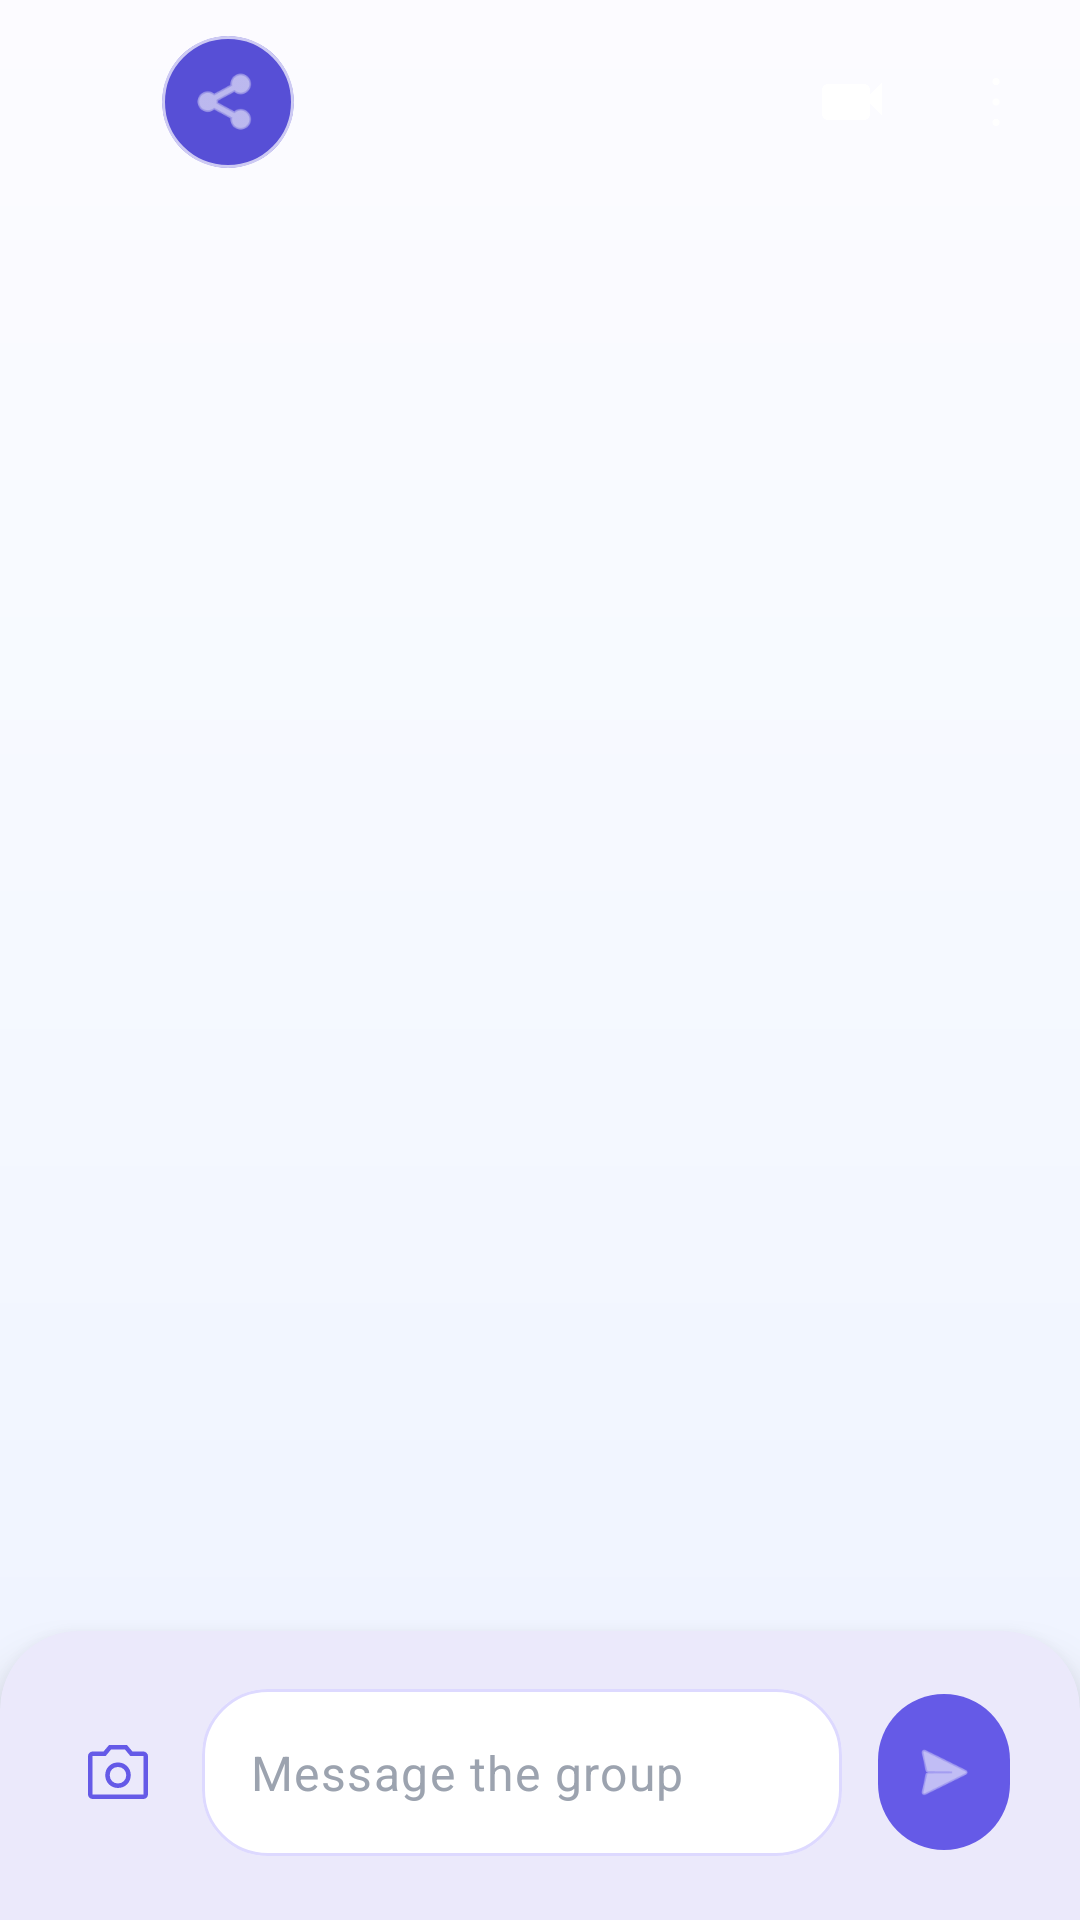

Screen size 1080x1920. Icon name, then its box in pixels as (x1, y1, x2, y2):
Add photo: (88, 1745, 148, 1799)
Send message: (878, 1694, 1010, 1850)
share: (162, 36, 294, 168)
